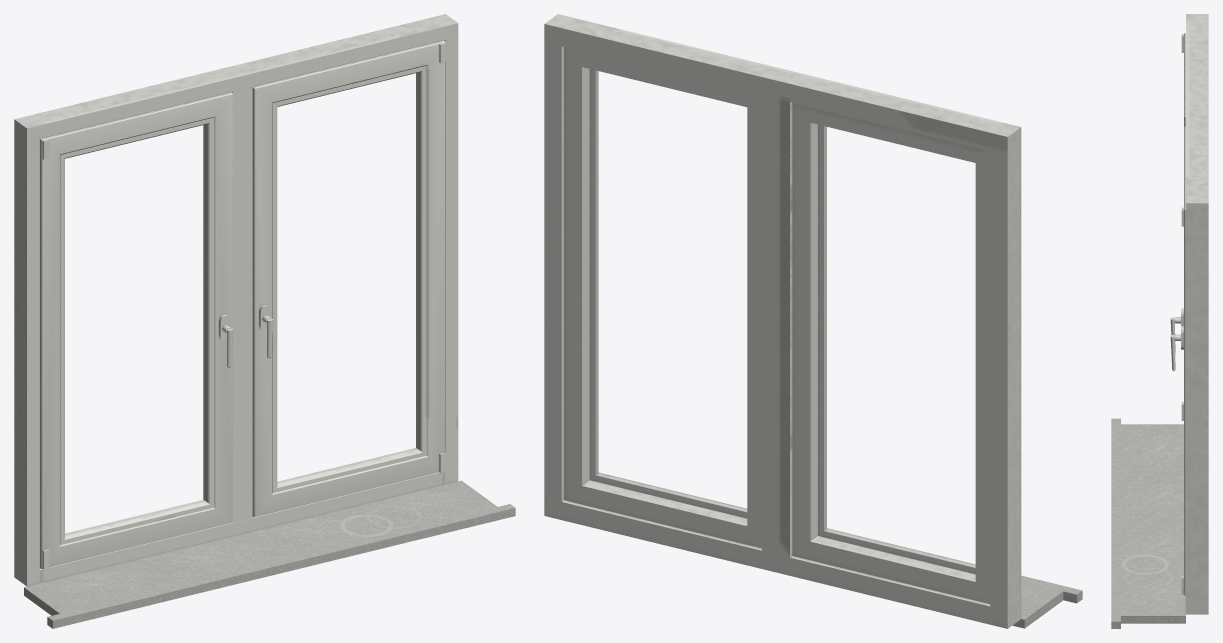
Rendered from same_seed_desk_window.glb.
3 renders of one model, left to right at view 1: azimuth 30°, elevation 25°; view 2: azimuth 150°, elevation 25°; view 3: azimuth 270°, elevation 25°, orthographic. The views are drawn at different scales.
Parts seen in each view (by area): view 1: window_frame_low, window_sash_1_low, window_sash_0_low, window_board_low, window_mullion_low, window_bead_1_low, window_bead_0_low, window_handles_and_hinges_low; view 2: window_frame_low, window_sash_0_low, window_sash_1_low, window_mullion_low, window_bead_1_low, window_bead_0_low, window_board_low; view 3: window_board_low, window_frame_low, window_sash_1_low, window_handles_and_hinges_low, window_sash_0_low.
Boxes of the visible parts, box(x1,y1,x2,y2) form: window_frame_low: box(14, 14, 458, 586); window_sash_1_low: box(252, 40, 445, 517); window_sash_0_low: box(40, 92, 232, 568); window_board_low: box(24, 480, 515, 628); window_mullion_low: box(231, 87, 252, 522); window_bead_1_low: box(272, 65, 426, 492); window_bead_0_low: box(60, 117, 213, 544); window_handles_and_hinges_low: box(42, 42, 445, 569); window_frame_low: box(544, 14, 1021, 628); window_sash_0_low: box(792, 103, 990, 603); window_sash_1_low: box(564, 47, 761, 548); window_mullion_low: box(762, 91, 792, 557); window_bead_1_low: box(589, 69, 747, 518); window_bead_0_low: box(818, 124, 975, 574); window_board_low: box(598, 472, 1082, 628); window_board_low: box(1111, 418, 1185, 628); window_frame_low: box(1186, 14, 1208, 614); window_sash_1_low: box(1184, 126, 1185, 595); window_handles_and_hinges_low: box(1170, 34, 1183, 594); window_sash_0_low: box(1184, 33, 1185, 126).
Size of the model in its own units: 1.48 by 1.42 by 0.3.
Materials: 2 (2 with a texture image).
